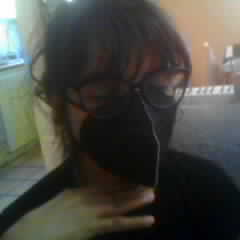with_mask: (67, 46, 187, 188)
